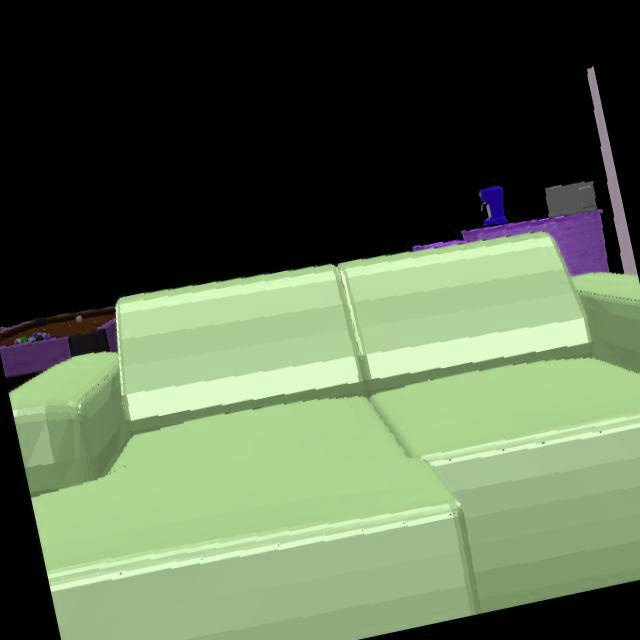sink: (9, 233, 640, 640)
